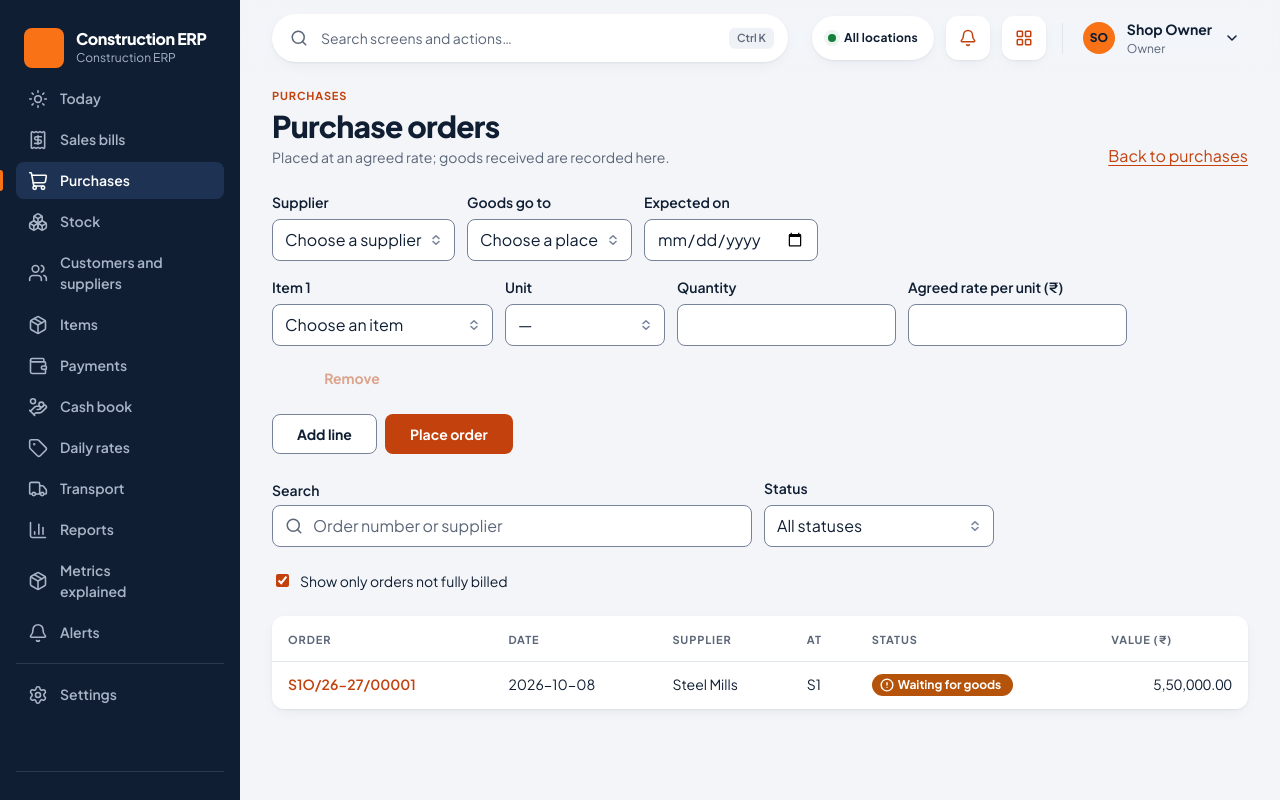
Test: Purchase orders › shows the owner rates and value, and counter staff quantities only
Expected: the text "5,50,000.00" is shown, x1=1095 y1=661 x2=1248 y2=709
Click the button "S1O/26-27/00001" at x=352, y=684, box x1=288 y1=674 x2=416 y2=694
(page scrolled)
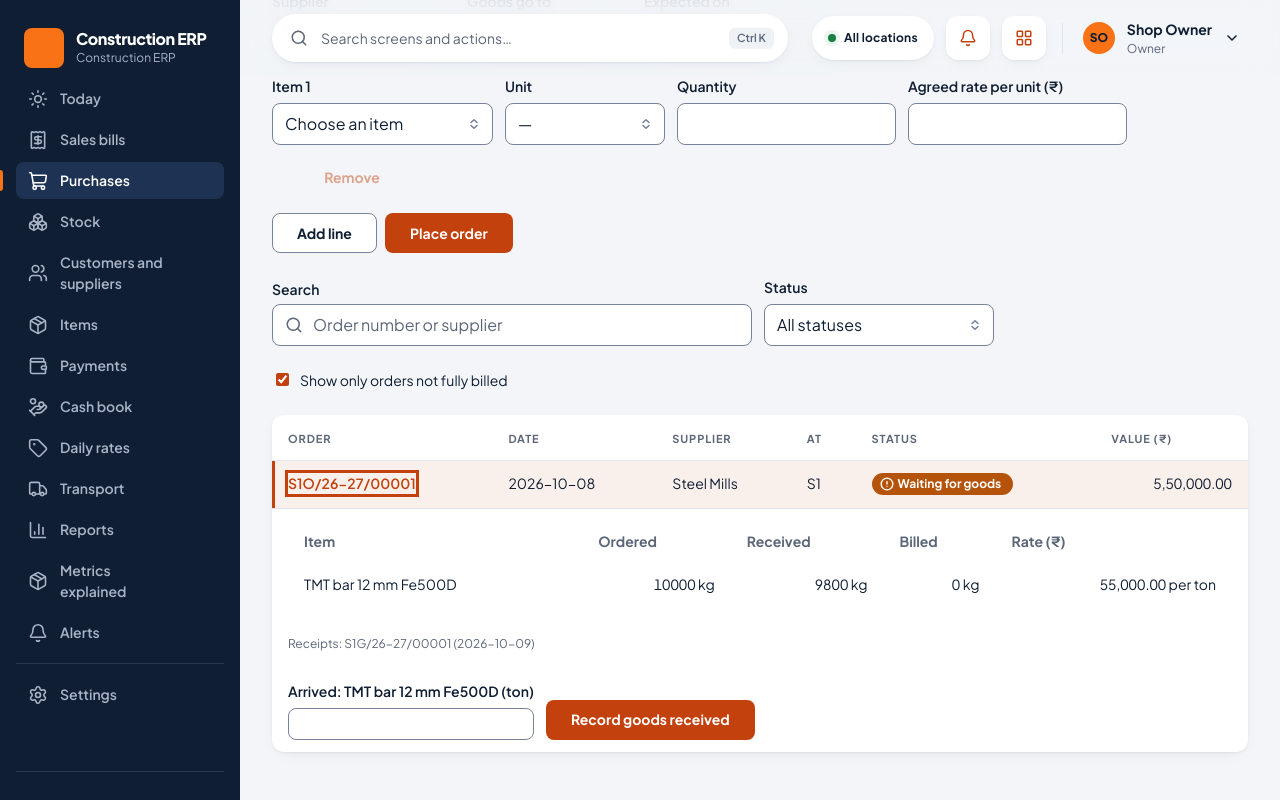
Expected: the text "55,000.00 per ton" is shown, x1=995 y1=562 x2=1232 y2=607
